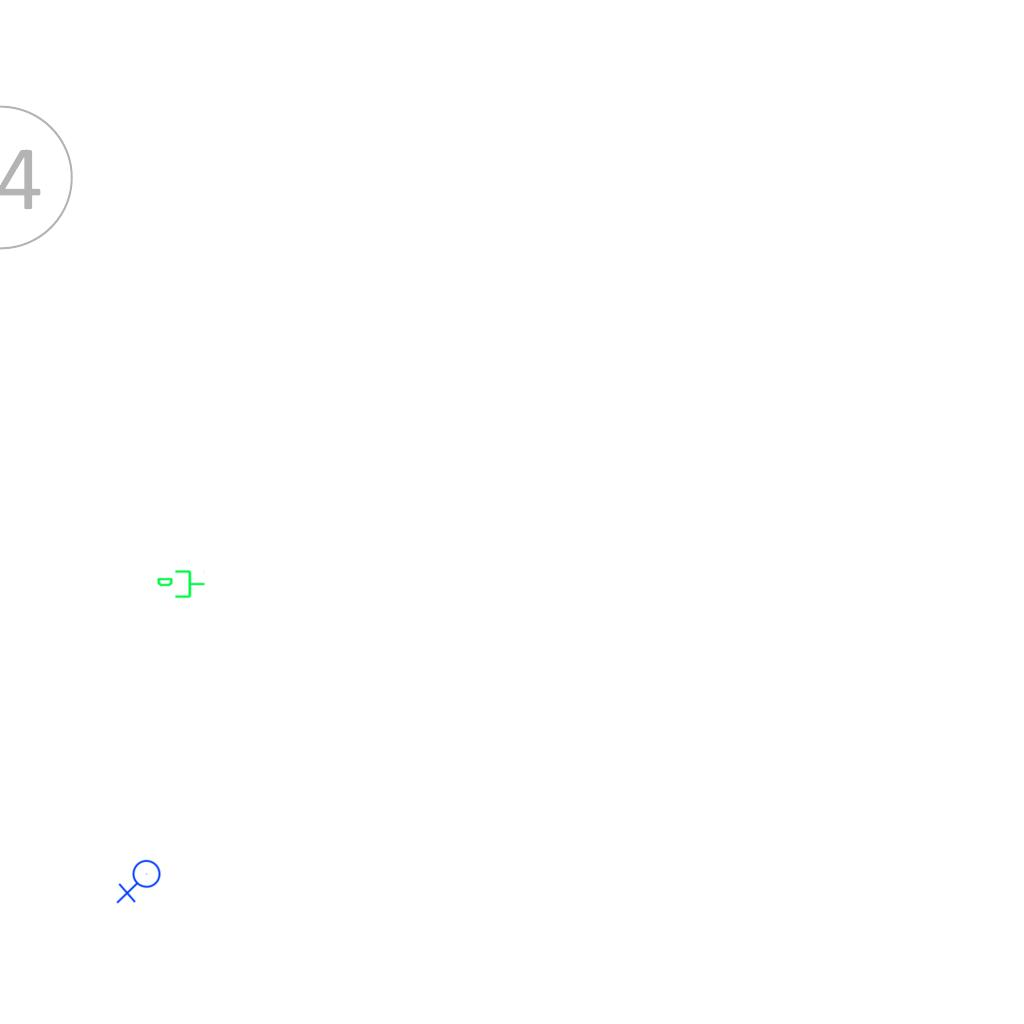Datenanschluss_einfach: (156, 568, 206, 602)
Elektroanschluss_allgemein_230V_Geraeteanschlussdose_230V: (116, 859, 165, 906)
